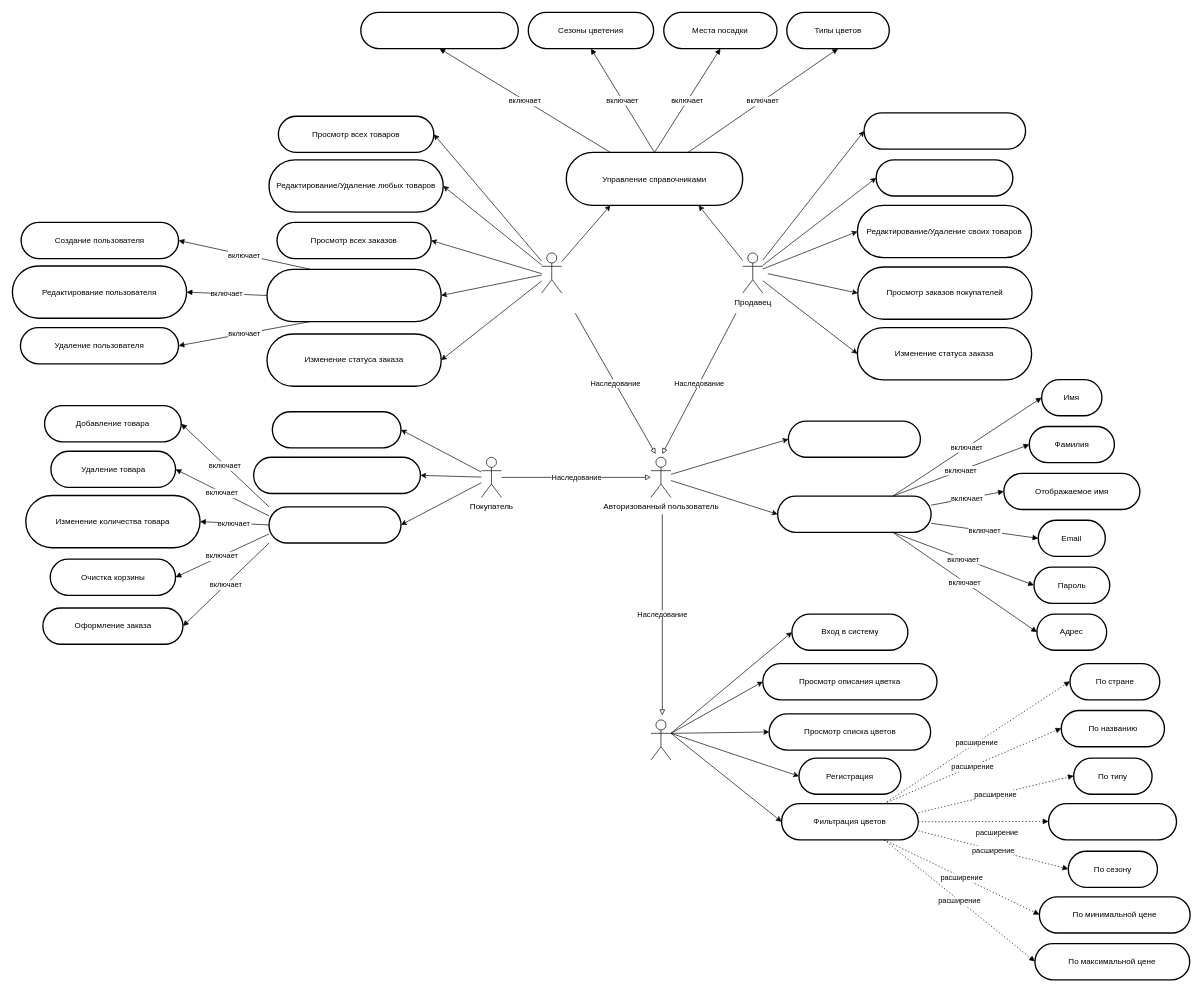
Image size: 1202x992. Some labels were removed from this diagram. Here are the shapes that lost their labels. From the top down, the box of each, then its label:
(360, 11, 519, 49): Страны происхождения
(863, 112, 1026, 149): Просмотр своих товаров
(875, 159, 1013, 196): Добавление цветка
(541, 252, 562, 293): Администратор
(266, 268, 442, 322): Администрирование пользователей
(271, 411, 401, 448): Просмотр заказов
(787, 420, 921, 458): Выход из аккаунта
(253, 456, 421, 494): Просмотр деталей заказа
(268, 506, 401, 543): Работа с корзиной
(777, 495, 931, 533): Управление профилем
(650, 719, 671, 760): Незарегистрированный пользователь
(1048, 803, 1177, 840): По месту посадки
